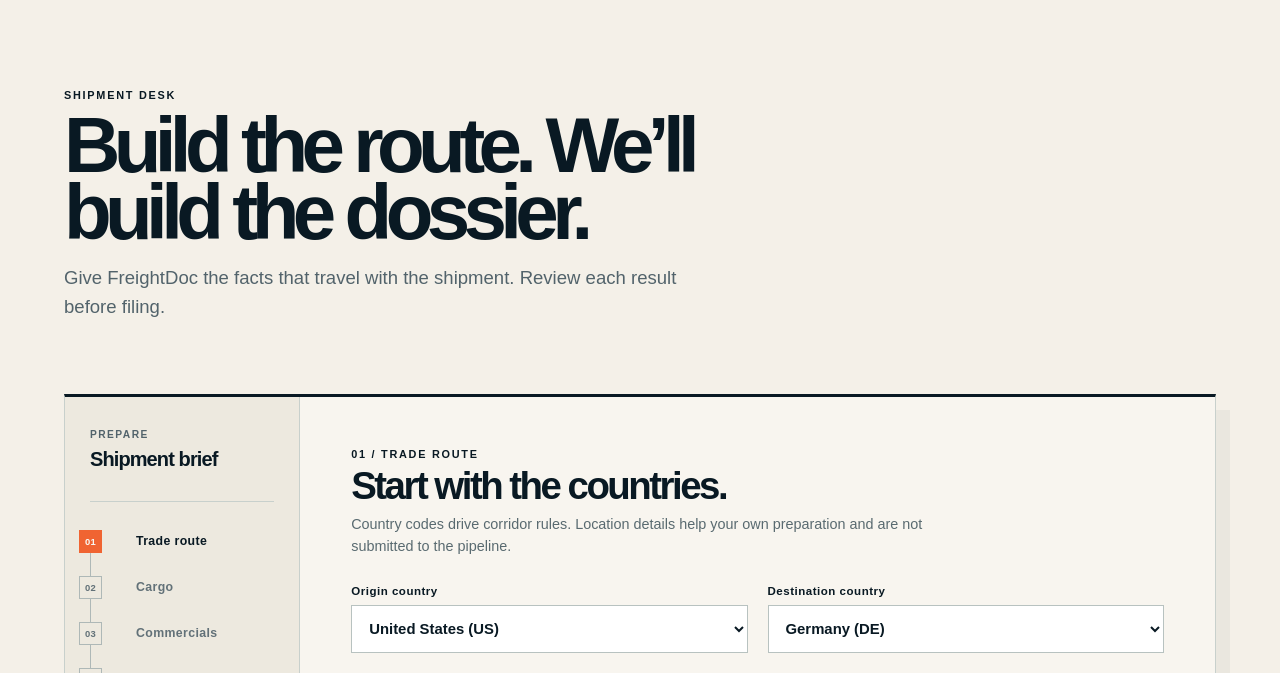
Test: ShipmentDesk › blocks unsupported corridors and exposes the warning as an alert
Select "China (CN)" in the dropdown labelled "Destination country": (966, 629) [768,605,1164,653]
(page scrolled)
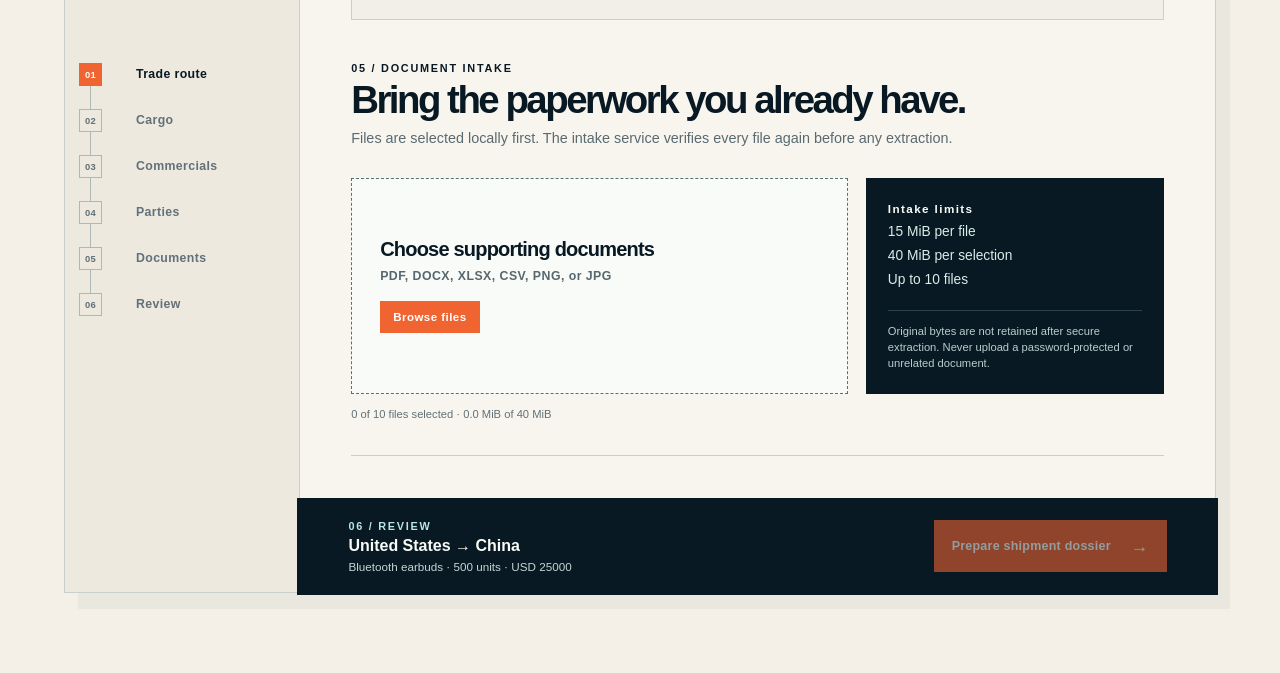
expect the button "Prepare shipment dossier →" is disabled: met, box [934,520,1167,572]
